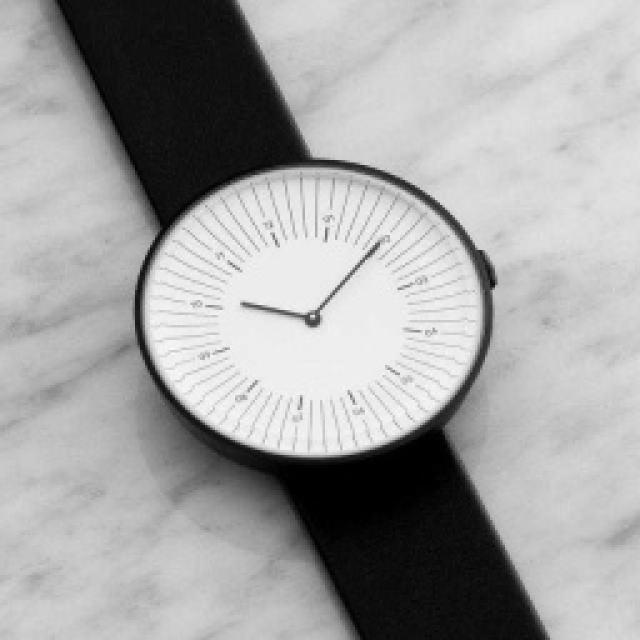saat: (41, 0, 559, 640)
